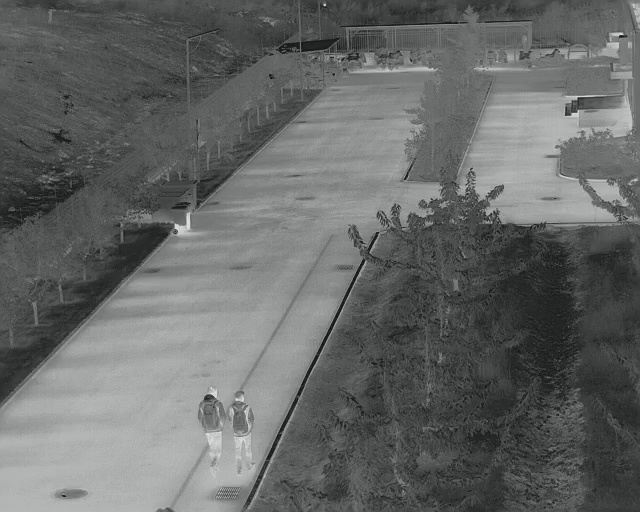person: (225, 389, 256, 475), (196, 384, 225, 475)
